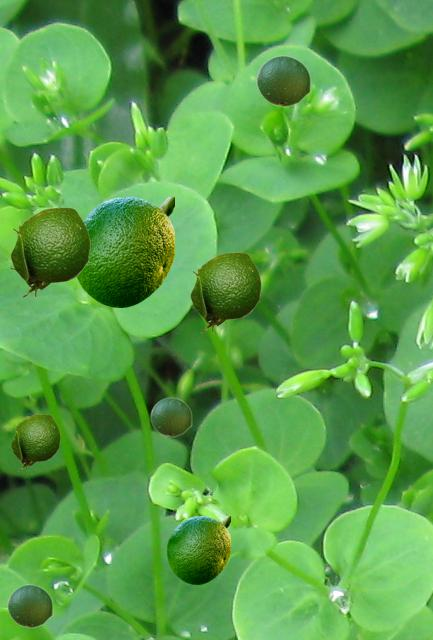dalandan: (76, 197, 173, 306), (9, 207, 89, 297), (189, 252, 260, 332), (167, 516, 229, 583), (256, 55, 310, 106), (10, 414, 59, 470), (7, 584, 52, 627), (150, 397, 191, 436)
